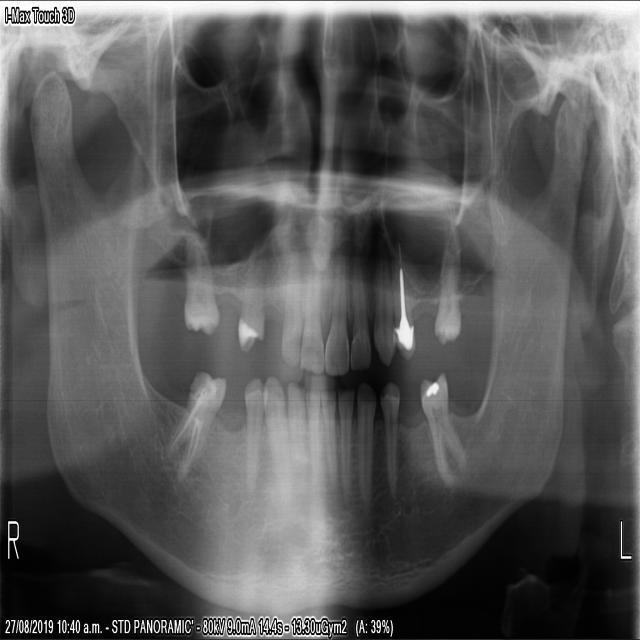LCD: (353, 375, 377, 514)
LCU: (369, 244, 396, 369)
LID: (316, 383, 338, 499), (335, 382, 356, 502)
LIU: (322, 251, 348, 381), (347, 250, 372, 374)
LMD: (416, 363, 468, 489)
LMU: (430, 213, 463, 350)
LPMD: (376, 372, 400, 502)
LPMU: (390, 236, 418, 365)
RCD: (261, 367, 291, 501)
RID: (282, 373, 308, 489), (303, 380, 324, 489)
RIU: (296, 243, 324, 378), (276, 241, 302, 373)
RMD: (157, 358, 229, 486)
RMU: (179, 221, 220, 341)
RPMD: (239, 369, 268, 503)
RPMU: (233, 249, 265, 356)
